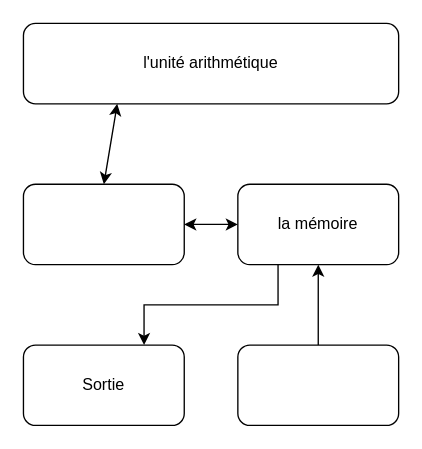
Image size: 422x449. Some labels were removed from this diagram. The shapes that lost their labels are listed below. From the top down, each one's centre as x and y in pixels, then its label:
[103,224]: l'unité de contrôle
[318,384]: Entrée
